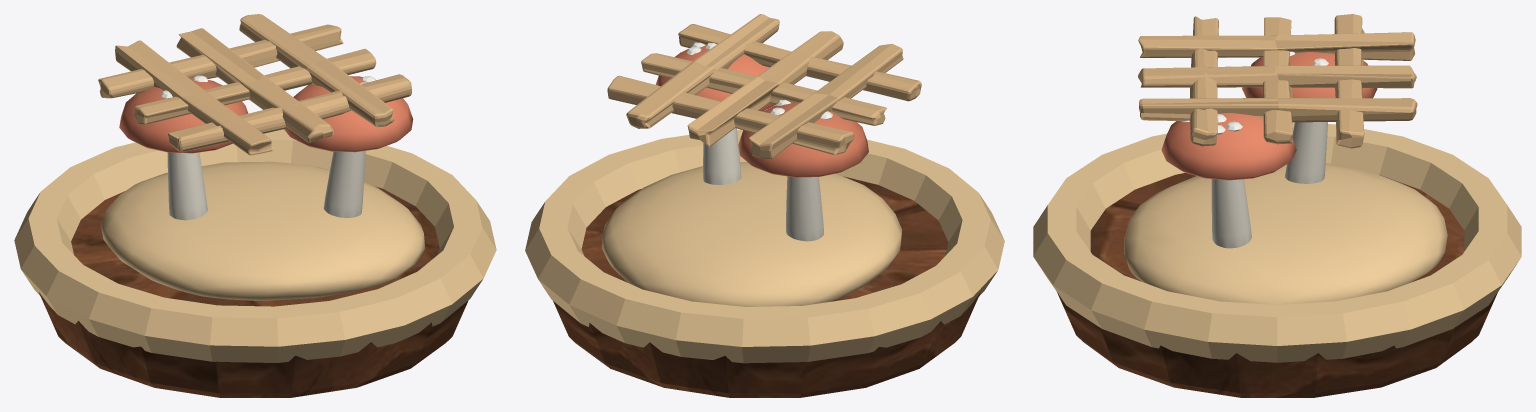
The model's file is dish_jungle_pie.glb.
The picture shows the model from 3 angles, left to right: view 1: azimuth 30°, elevation 25°; view 2: azimuth 150°, elevation 25°; view 3: azimuth 270°, elevation 25°; orthographic projection. The views are drawn at different scales.
Parts seen in each view (by area): view 1: model; view 2: model; view 3: model.
Part boxes in pixels (x1,y1,x2,y2): model: (14,14,496,397); model: (525,14,1004,397); model: (1033,14,1521,397).
Size of the model in its own units: 0.306 by 0.1684 by 0.3029.
Materials: 9 (1 with a texture image).
